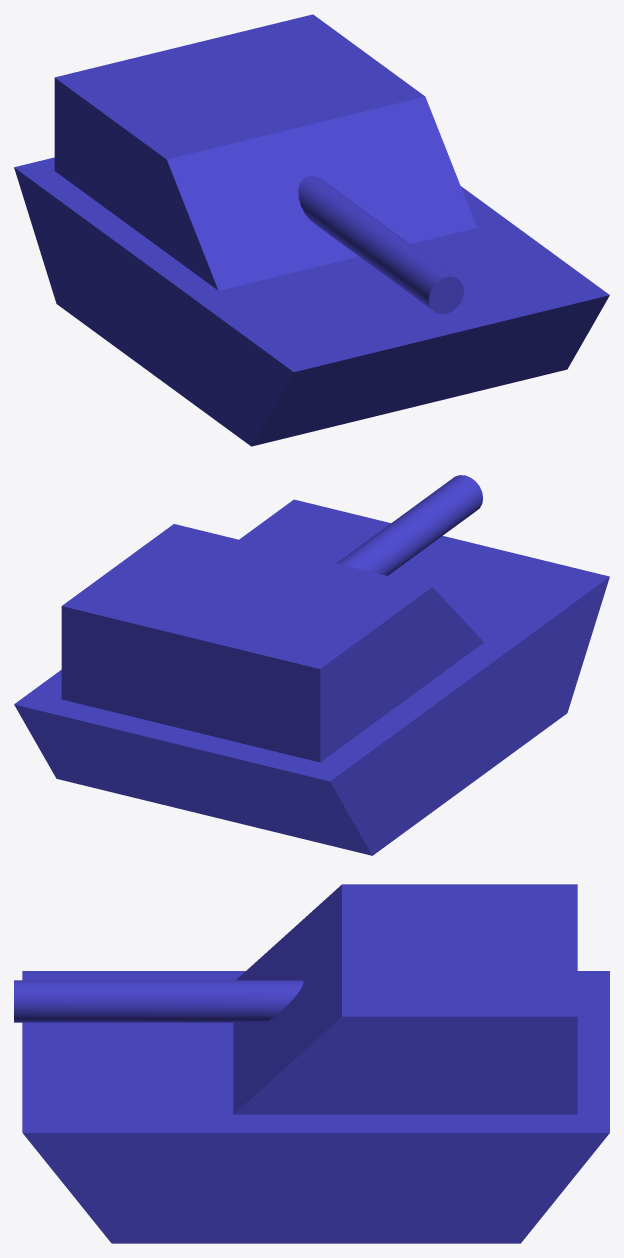
Rendered from BlueTank.fbx.
The picture shows the model from 3 angles, top to bottom: view 1: azimuth 30°, elevation 25°; view 2: azimuth 150°, elevation 25°; view 3: azimuth 270°, elevation 25°; orthographic projection. The views are drawn at different scales.
Visible parts, largest first — view 1: polySurface2; view 2: polySurface2; view 3: polySurface2.
Boxes of the visible parts, box(x1,y1,x2,y2) form: polySurface2: box(14, 14, 609, 446); polySurface2: box(14, 475, 609, 855); polySurface2: box(14, 884, 609, 1243).
Bounding box in the file's own units: 1.31 × 0.7935 × 2.04.
